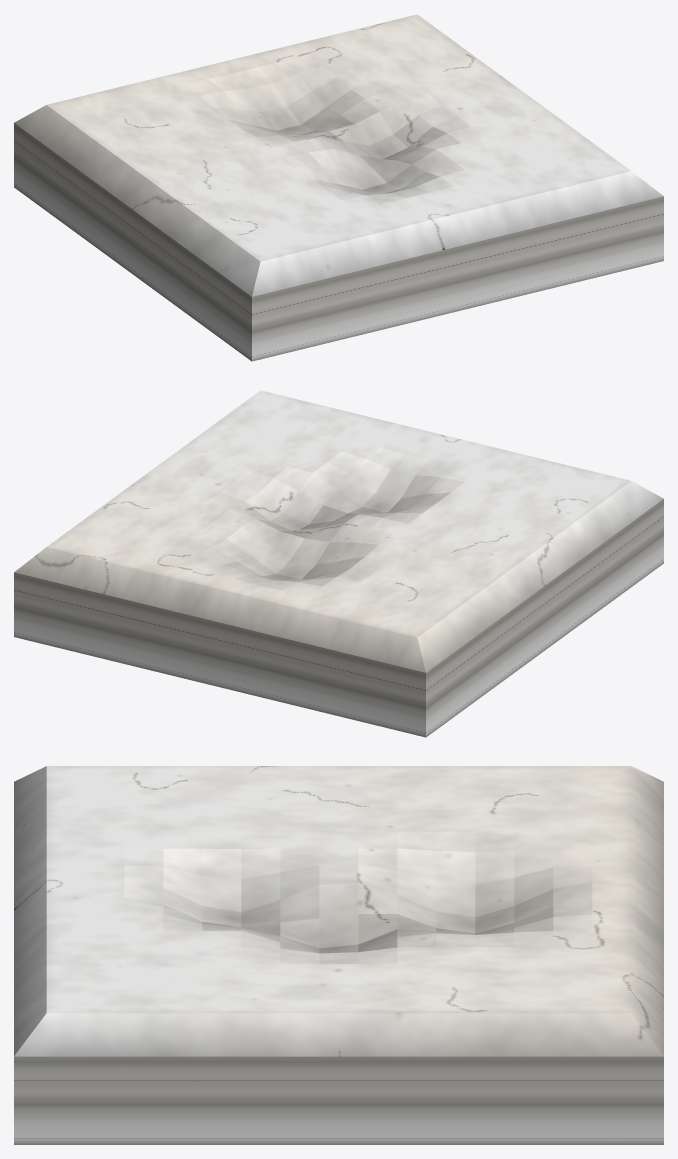
The model's file is tile_mud_d2.glb.
The picture shows the model from 3 angles, top to bottom: view 1: azimuth 30°, elevation 25°; view 2: azimuth 150°, elevation 25°; view 3: azimuth 270°, elevation 25°; orthographic projection. The views are drawn at different scales.
Parts seen in each view (by area): view 1: tile_mud_d2; view 2: tile_mud_d2; view 3: tile_mud_d2.
Part boxes in pixels (bbox=[...]): tile_mud_d2: bbox=[14, 14, 663, 361]; tile_mud_d2: bbox=[14, 390, 663, 737]; tile_mud_d2: bbox=[14, 766, 663, 1144].
Size of the model in its own units: 1 by 0.2 by 1.
1 material, 1 textured.
